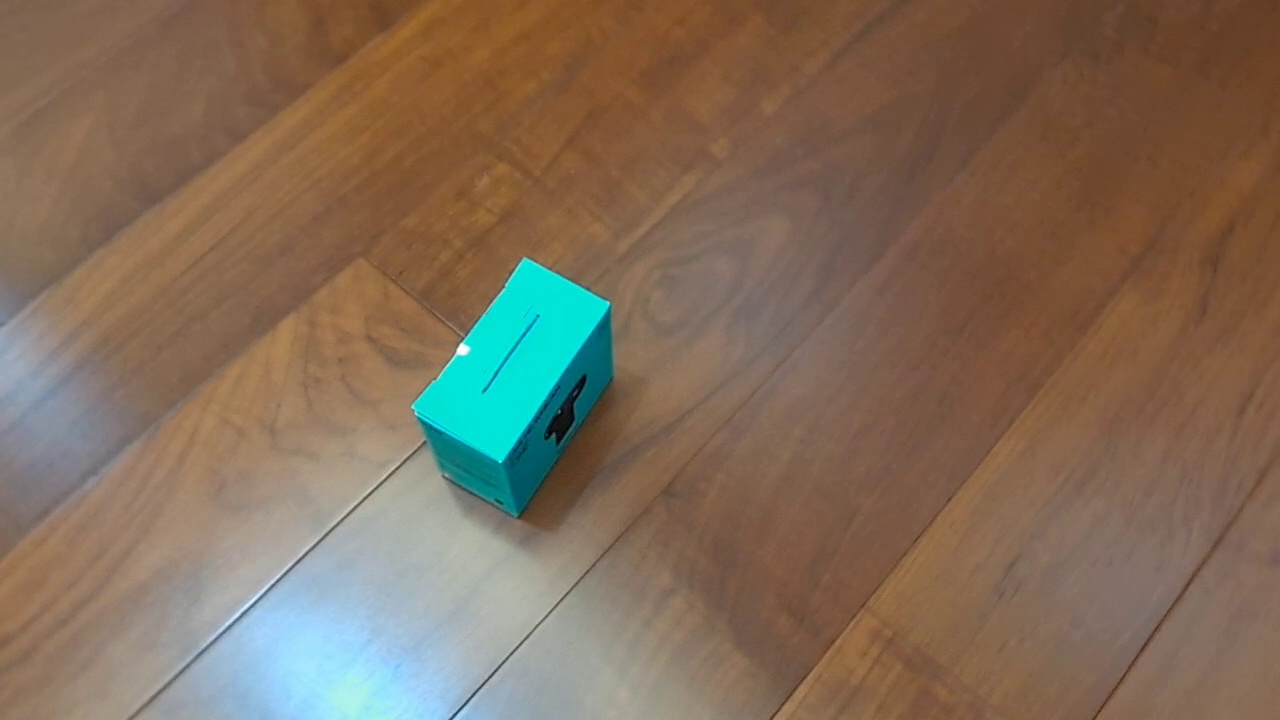webcam: (409, 255, 615, 521)
